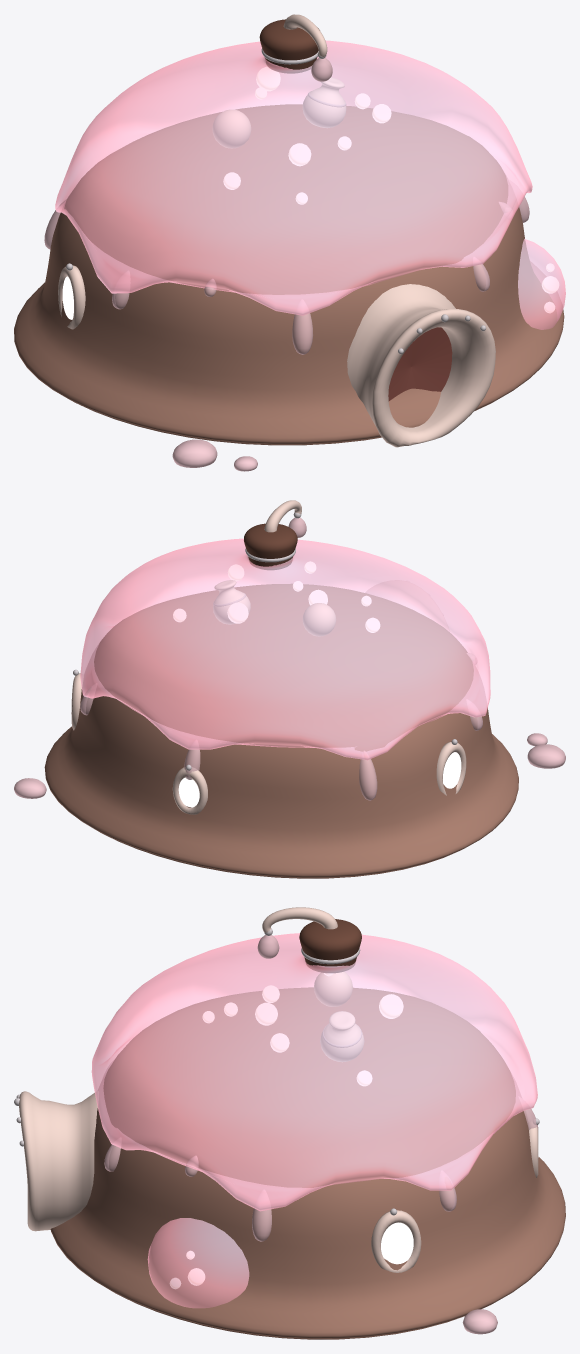
Rendered from house_02_0204.fbx.
3 views of the same model, one above another, from view 1: azimuth 30°, elevation 25°; view 2: azimuth 150°, elevation 25°; view 3: azimuth 270°, elevation 25° (orthographic). The views are drawn at different scales.
Parts seen in each view (by area): view 1: House02_Body_Base, House02_Dome_JellyClear, House02_Entrance_Tunnel, House02_Blister_JellyClear, House02_Entrance_Shadow, House02_Top_Plug, House02_Float_Pot, House02_Float_Lamp, House02_Puddle_1, House02_WindowLip_L, House02_Drip_6, House02_Top_Sprout; view 2: House02_Body_Base, House02_Dome_JellyClear, House02_Top_Plug, House02_Float_Lamp, House02_WindowLip_Back, House02_Float_Pot, House02_Puddle_1, House02_WindowLip_L, House02_Drip_4, House02_Puddle_3, House02_Top_Sprout, House02_Window_L (+1 smaller); view 3: House02_Body_Base, House02_Dome_JellyClear, House02_Entrance_Tunnel, House02_Blister_JellyClear, House02_Top_Plug, House02_Float_Pot, House02_WindowLip_R, House02_Window_R, House02_Float_Lamp, House02_Top_Sprout, House02_Puddle_3, House02_Drip_1.
Boxes of the visible parts, x1,y1,x2,y2 form: House02_Body_Base: [14, 104, 564, 445]; House02_Dome_JellyClear: [55, 40, 532, 315]; House02_Entrance_Tunnel: [347, 284, 495, 447]; House02_Blister_JellyClear: [518, 239, 565, 329]; House02_Entrance_Shadow: [388, 327, 452, 401]; House02_Top_Plug: [259, 19, 319, 73]; House02_Float_Pot: [303, 77, 345, 127]; House02_Float_Lamp: [212, 110, 250, 148]; House02_Puddle_1: [172, 439, 217, 467]; House02_WindowLip_L: [58, 265, 85, 329]; House02_Drip_6: [292, 313, 313, 354]; House02_Top_Sprout: [283, 14, 327, 56]; House02_Body_Base: [44, 584, 518, 878]; House02_Dome_JellyClear: [80, 538, 490, 760]; House02_Top_Plug: [244, 523, 297, 569]; House02_Float_Lamp: [303, 603, 335, 636]; House02_WindowLip_Back: [172, 767, 207, 814]; House02_Float_Pot: [213, 580, 250, 624]; House02_Puddle_1: [527, 744, 565, 768]; House02_WindowLip_L: [436, 742, 466, 795]; House02_Drip_4: [359, 751, 377, 800]; House02_Puddle_3: [14, 778, 46, 798]; House02_Top_Sprout: [264, 500, 301, 532]; House02_Window_L: [443, 752, 461, 788]; House02_Body_Base: [50, 987, 565, 1339]; House02_Dome_JellyClear: [91, 933, 537, 1211]; House02_Entrance_Tunnel: [19, 1091, 97, 1231]; House02_Blister_JellyClear: [147, 1218, 249, 1308]; House02_Top_Plug: [299, 919, 361, 972]; House02_Float_Pot: [320, 1011, 364, 1061]; House02_WindowLip_R: [371, 1210, 421, 1272]; House02_Window_R: [381, 1222, 413, 1264]; House02_Float_Lamp: [314, 972, 352, 1006]; House02_Top_Sprout: [262, 907, 337, 932]; House02_Puddle_3: [462, 1309, 497, 1334]; House02_Drip_1: [252, 1208, 271, 1241].
Size of the model in its own units: 6.3 by 3.96 by 6.2.
